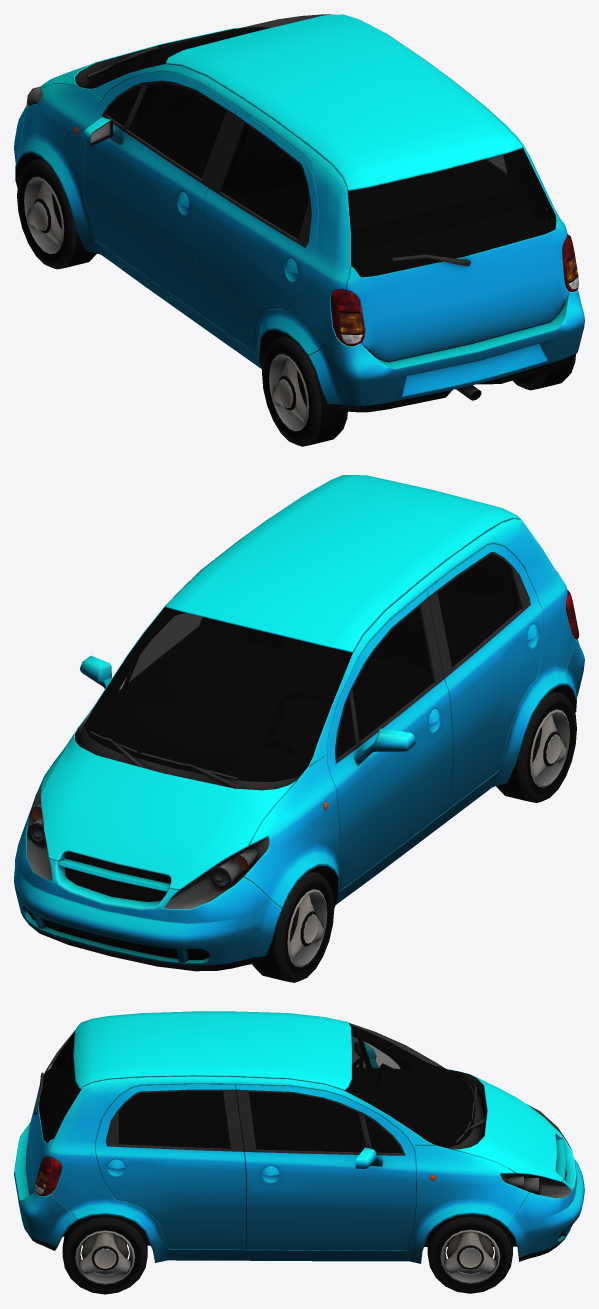
The model's file is compact.glb.
3 renders of one model, top to bottom at view 1: azimuth 30°, elevation 25°; view 2: azimuth 150°, elevation 25°; view 3: azimuth 270°, elevation 25°, orthographic. The views are drawn at different scales.
Visible parts, largest first — view 1: Body, Wheel_RL, Wheel_FL, Wheel_RR; view 2: Body, Wheel_FL, Wheel_RL; view 3: Body, Wheel_RR, Wheel_FR.
Part boxes in pixels (left/top/right/bottom): Body: left=14, top=14, right=584, bottom=412; Wheel_RL: left=262, top=335, right=347, bottom=446; Wheel_FL: left=17, top=158, right=96, bottom=269; Wheel_RR: left=513, top=354, right=575, bottom=390; Body: left=14, top=475, right=584, bottom=971; Wheel_FL: left=252, top=870, right=334, bottom=982; Wheel_RL: left=496, top=690, right=576, bottom=802; Body: left=14, top=1011, right=584, bottom=1263; Wheel_RR: left=62, top=1214, right=147, bottom=1294; Wheel_FR: left=427, top=1214, right=512, bottom=1293.
Size of the model in its own units: 1.61 by 1.32 by 3.26.
Materials: 4 (3 with a texture image).
